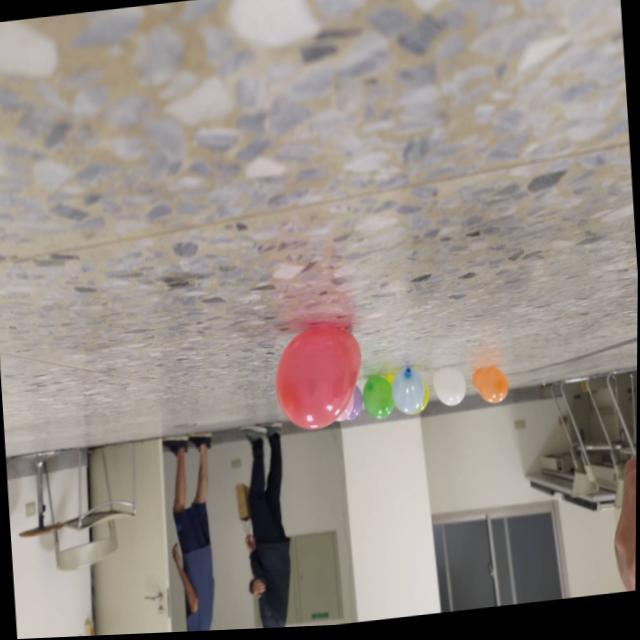other: (361, 378, 398, 426), (472, 369, 510, 413), (392, 370, 424, 418), (434, 370, 467, 412), (347, 386, 365, 424), (333, 400, 356, 425)
red: (270, 326, 367, 438)
